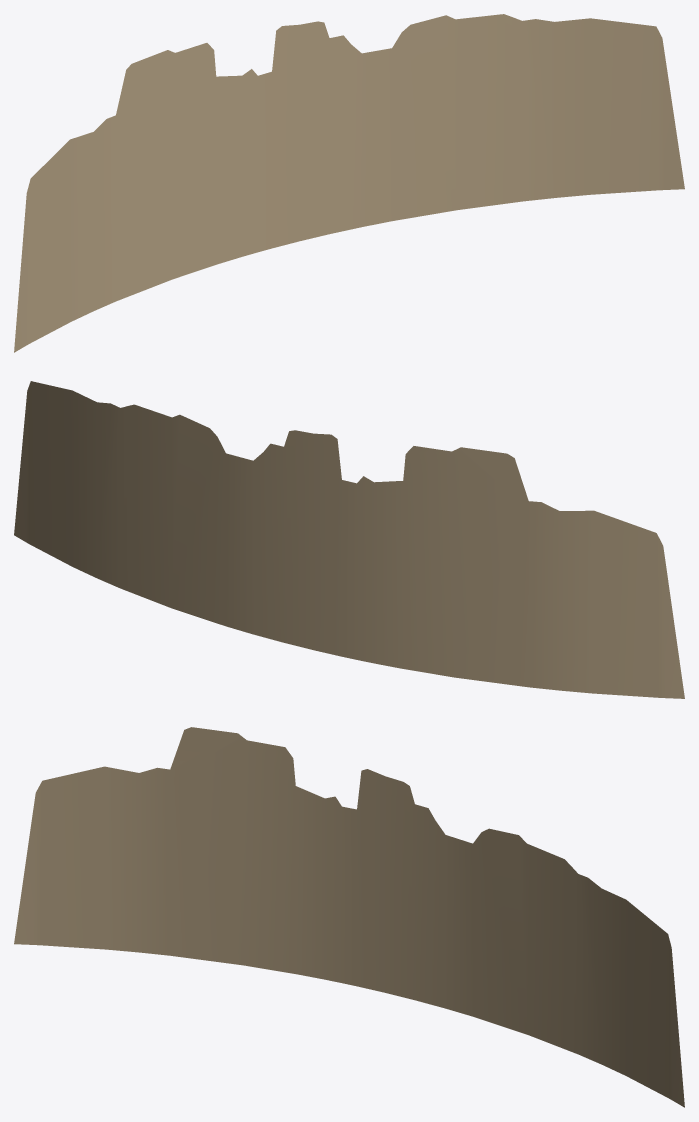
Rendered from background_3.fbx.
3 views of the same model, one above another, from view 1: azimuth 30°, elevation 25°; view 2: azimuth 150°, elevation 25°; view 3: azimuth 330°, elevation 25° (orthographic).
Visible parts, largest first — view 1: SM_Env_BackgroundCard_03; view 2: SM_Env_BackgroundCard_03; view 3: SM_Env_BackgroundCard_03.
Part boxes in pixels (left/top/right/bottom): SM_Env_BackgroundCard_03: left=14, top=14, right=684, bottom=352; SM_Env_BackgroundCard_03: left=14, top=381, right=684, bottom=698; SM_Env_BackgroundCard_03: left=14, top=727, right=684, bottom=1107.
Size of the model in its own units: 1894 by 624 by 210.
Materials: 1 (1 with a texture image).
